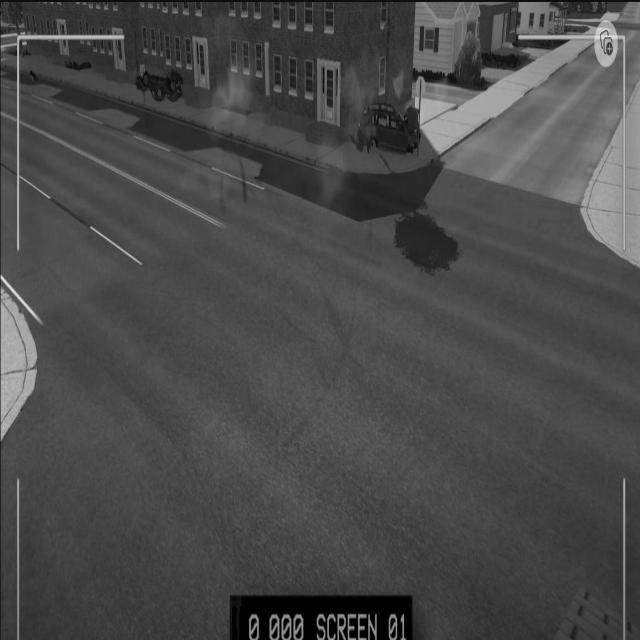accident: (357, 97, 424, 159), (130, 63, 188, 111)
